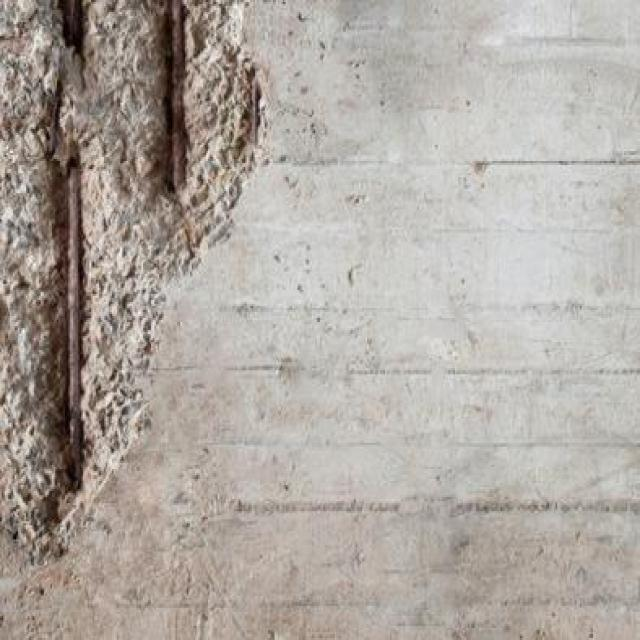Rebar: (0, 0, 265, 566)
